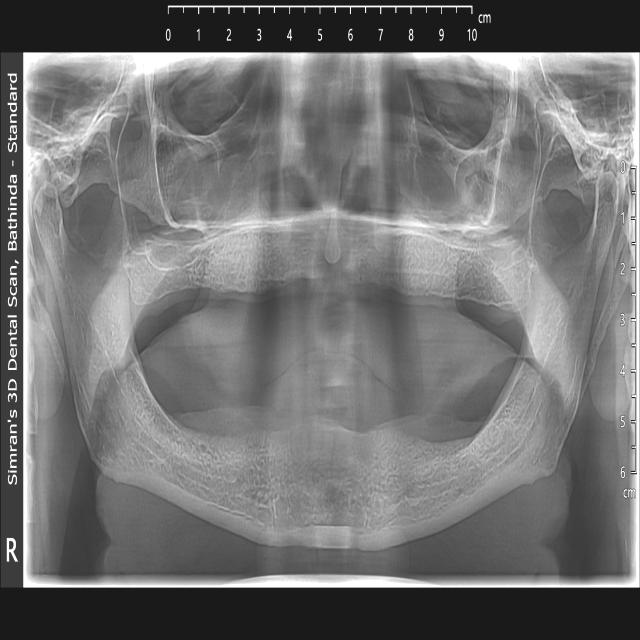Missing teeth: (156, 268, 486, 331), (185, 400, 453, 464)
